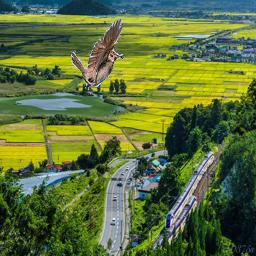Sparrow: (71, 19, 123, 95)
